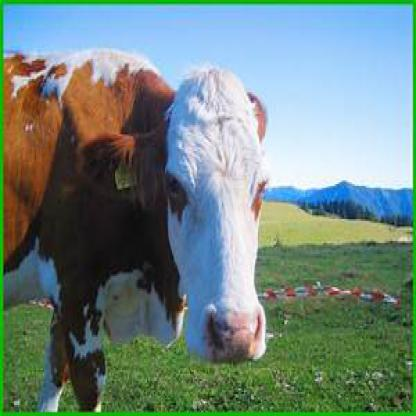cow: (2, 46, 274, 414)
